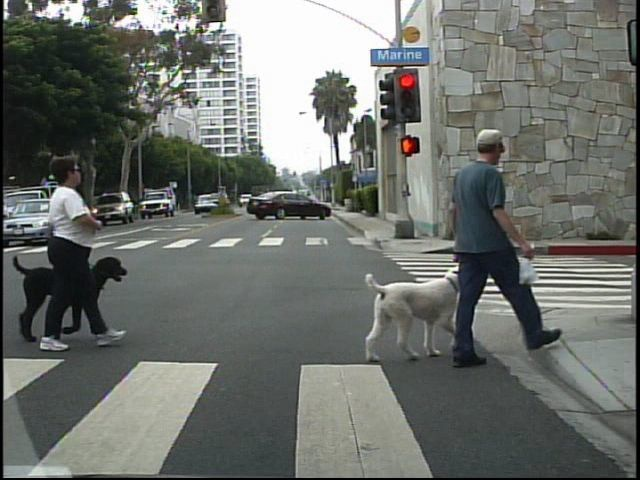person: (431, 118, 537, 371), (30, 152, 99, 356)
